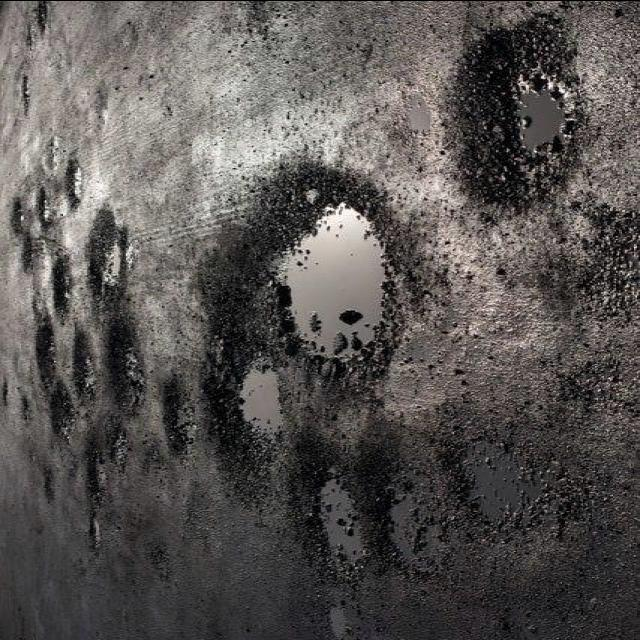lubang: (225, 172, 399, 369), (434, 9, 592, 221), (445, 439, 565, 549), (535, 210, 640, 332), (290, 464, 382, 583), (216, 344, 300, 468), (98, 312, 168, 424), (77, 420, 129, 560), (368, 472, 443, 567), (544, 348, 640, 418), (149, 364, 211, 468), (83, 208, 139, 308), (0, 194, 48, 276), (26, 309, 68, 399), (40, 382, 84, 446), (46, 252, 80, 326), (52, 160, 100, 207), (30, 456, 64, 512), (314, 601, 362, 640), (20, 1, 52, 51), (31, 185, 62, 231), (22, 286, 56, 324), (14, 384, 35, 432), (14, 72, 36, 114)
